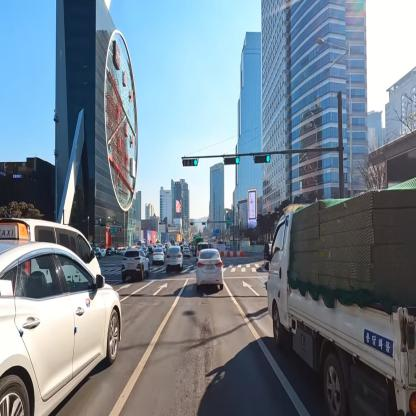Green: (183, 155, 198, 168), (253, 154, 272, 164), (224, 156, 240, 167)
